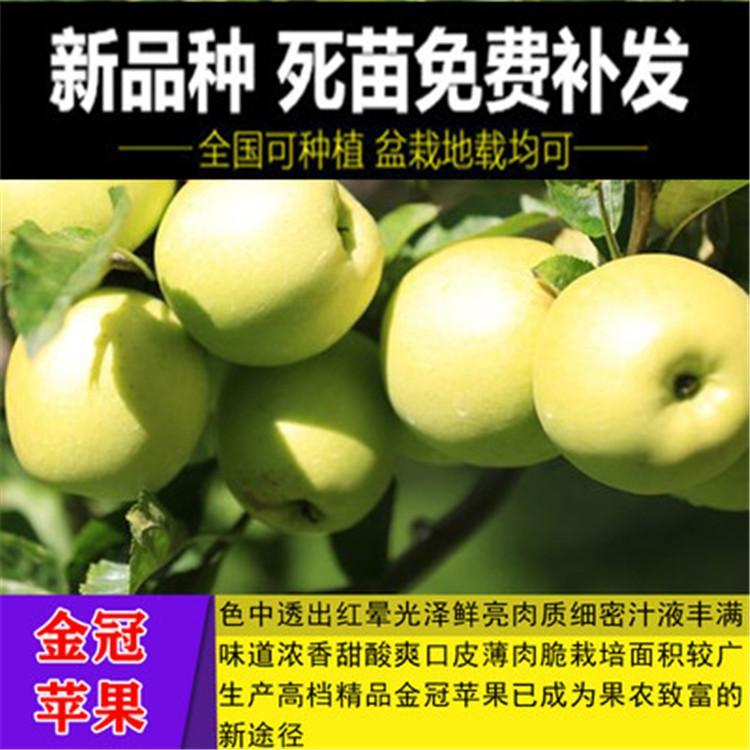apple: (530, 249, 746, 492), (380, 234, 570, 468), (5, 285, 212, 498), (156, 181, 384, 362), (214, 329, 393, 537)
